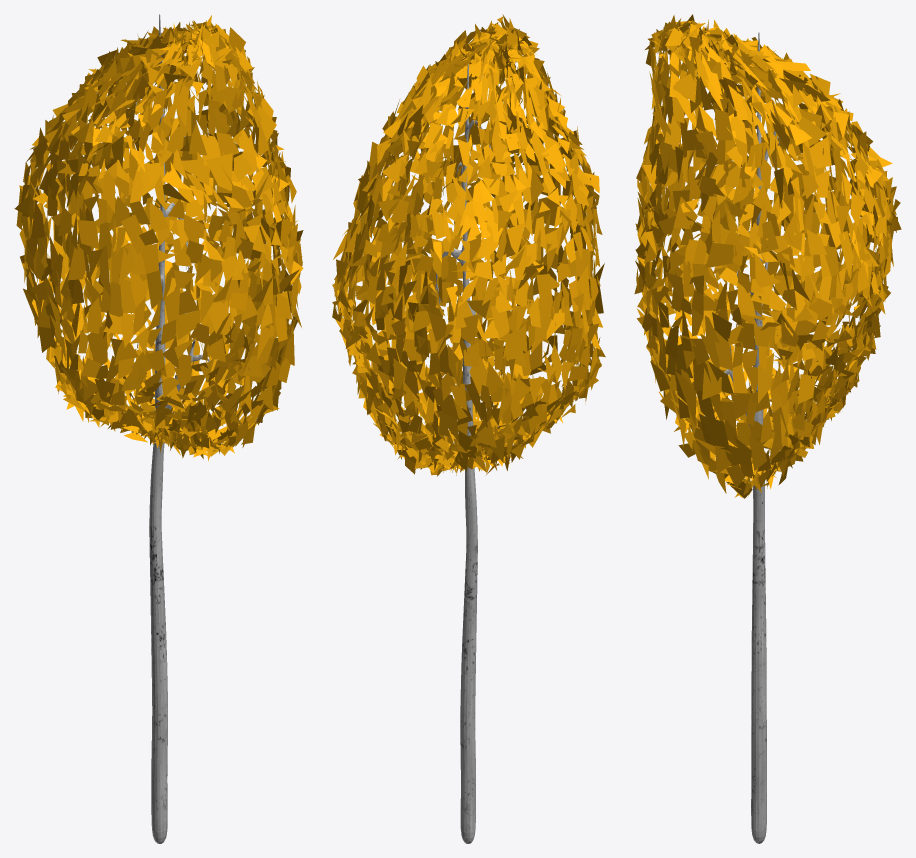
File: Leaves63.fbx
The picture shows the model from 3 angles, left to right: view 1: azimuth 30°, elevation 25°; view 2: azimuth 150°, elevation 25°; view 3: azimuth 270°, elevation 25°; orthographic projection. The views are drawn at different scales.
Parts seen in each view (by area): view 1: Leaves63; view 2: Leaves63; view 3: Leaves63.
Part boxes in pixels (bbox=[...]): Leaves63: bbox=[14, 14, 303, 843]; Leaves63: bbox=[332, 14, 605, 843]; Leaves63: bbox=[634, 14, 901, 843].
Bounding box in the file's own units: 795 × 2628 × 768.
Materials: 2 (1 with a texture image).
